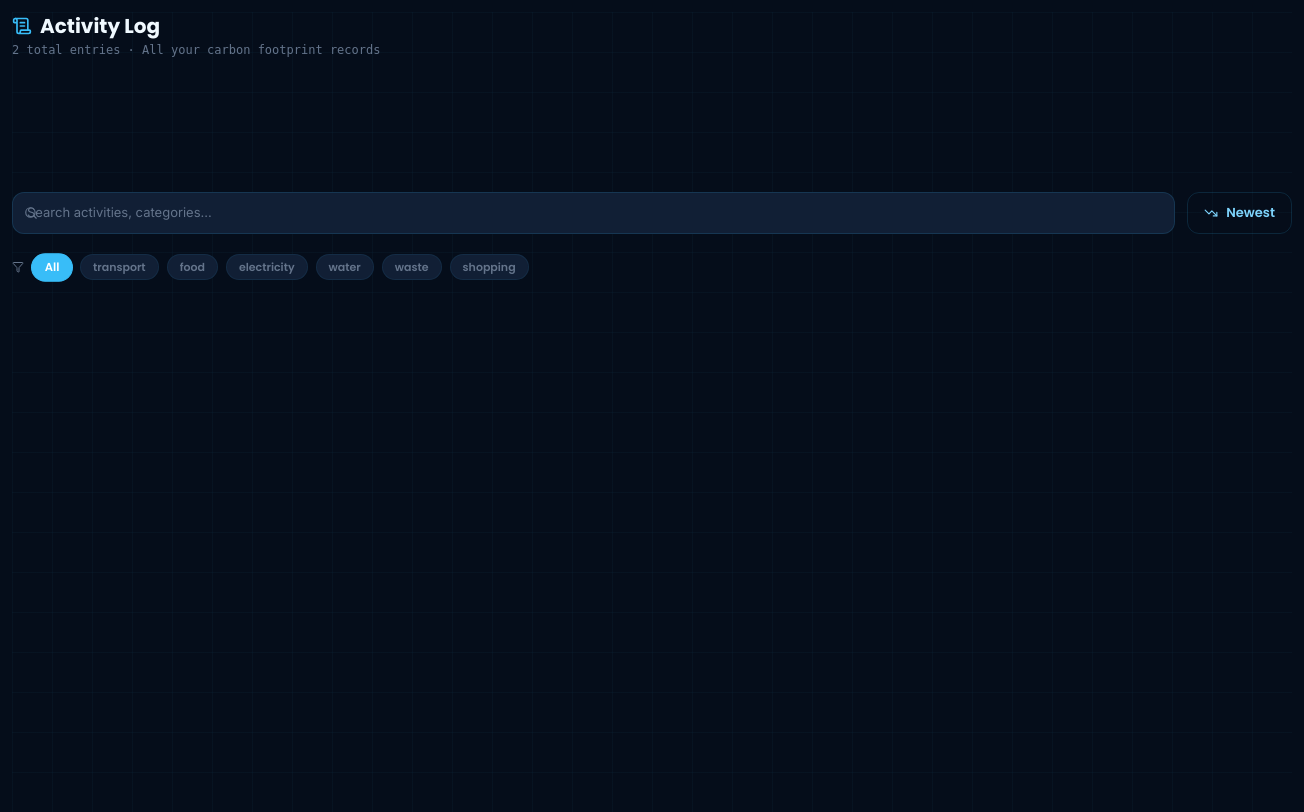
Test case: LogsTab › sorts logs when toggle is clicked
Step 1. Click the button with aria-label "Sort oldest first" → coordinates (1240, 213), box 1187,192 -> 1292,234
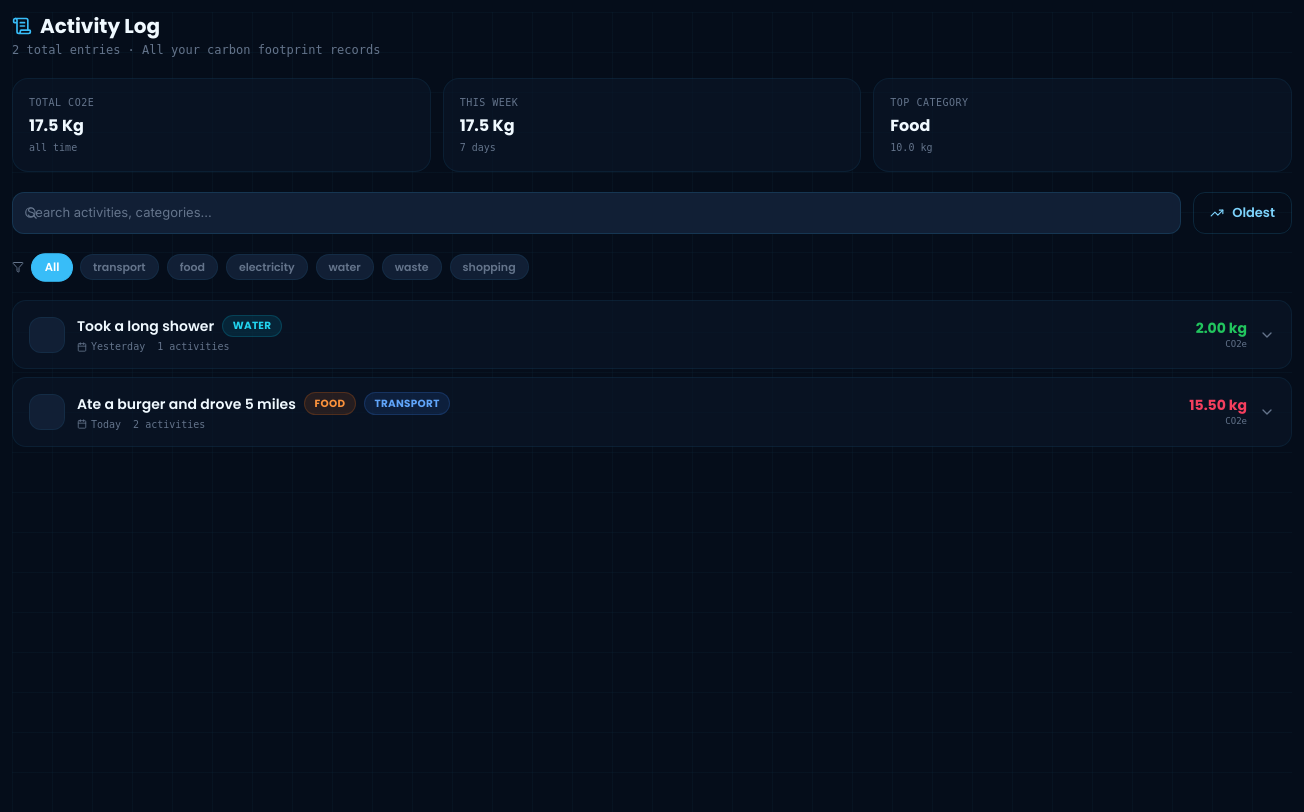
Result: the text "Oldest" is shown at 1232,203 -> 1275,222
